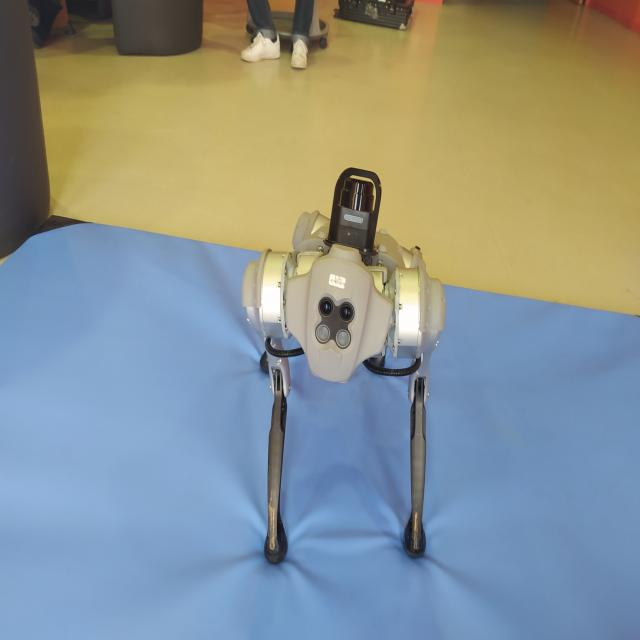unitree-go1-robot: (230, 150, 470, 582)
